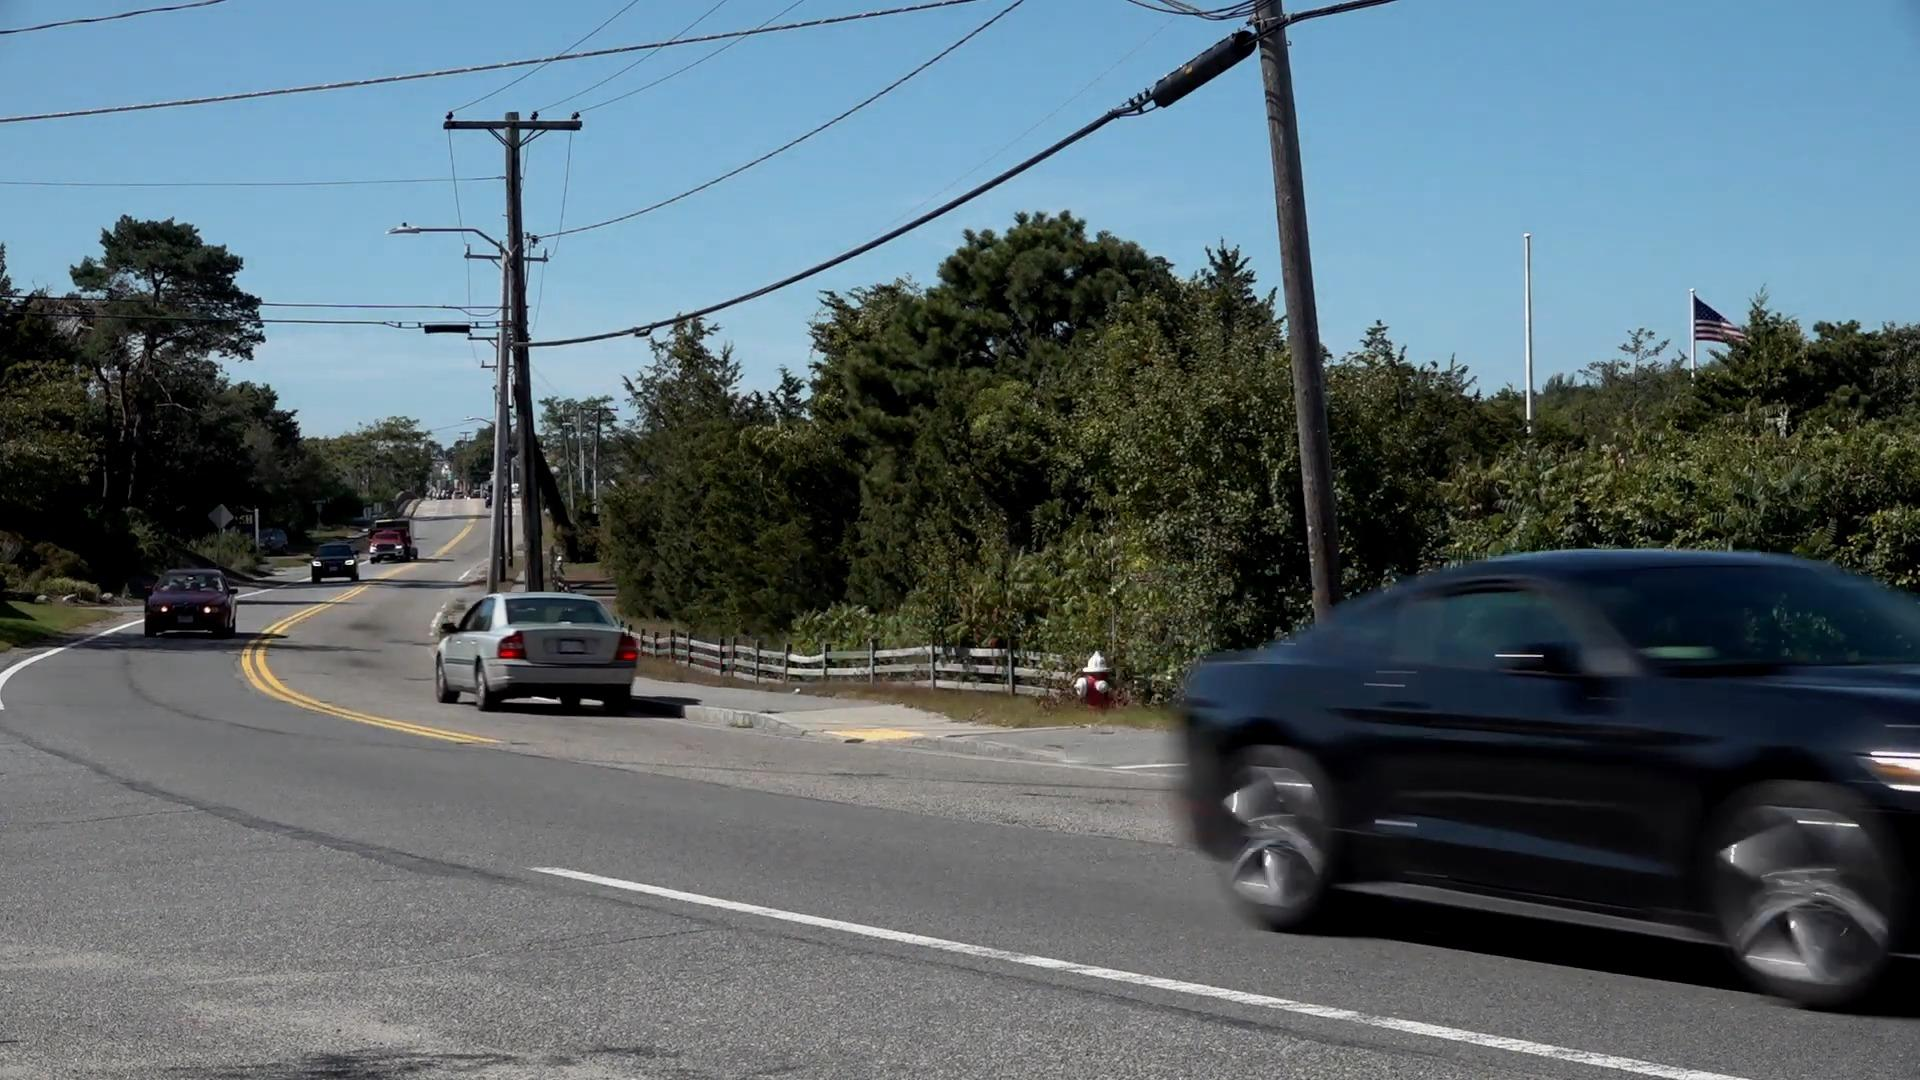sedans: (1182, 550, 1920, 1011), (434, 592, 644, 719), (141, 563, 235, 642)
